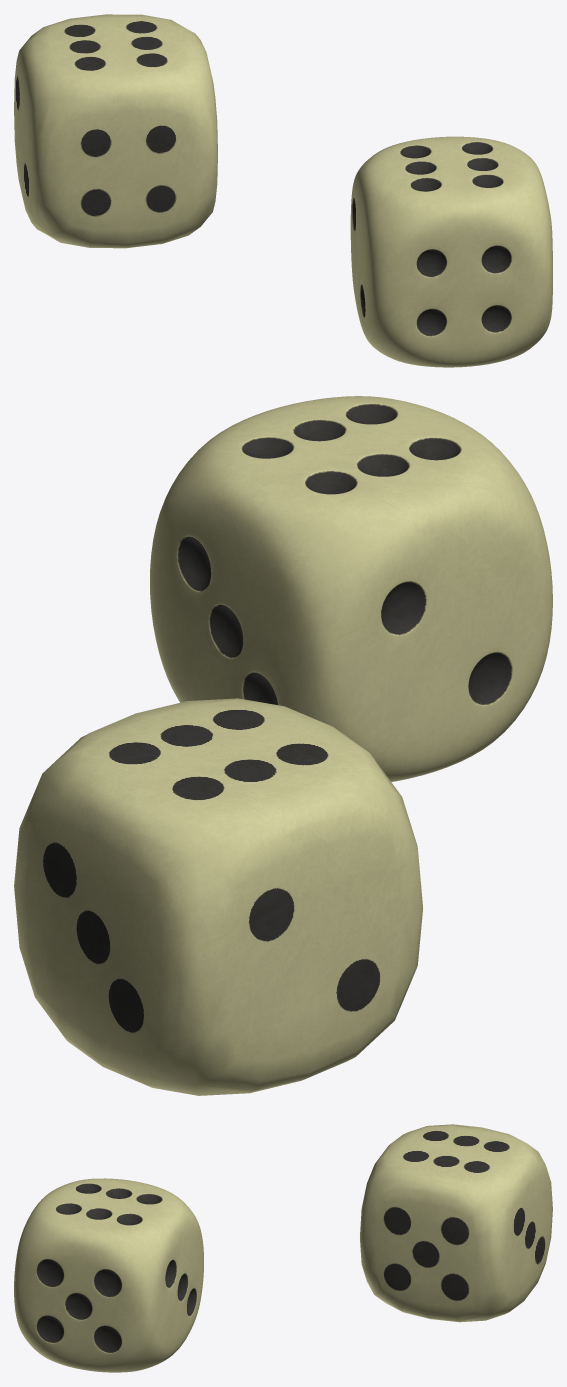
3 renders of one model, top to bottom at view 1: azimuth 30°, elevation 25°; view 2: azimuth 150°, elevation 25°; view 3: azimuth 270°, elevation 25°, orthographic. The views are drawn at different scales.
Visible parts, largest first — view 1: dice_lowpoly, dice_hipoly; view 2: dice_lowpoly, dice_hipoly; view 3: dice_lowpoly, dice_hipoly.
Part boxes in pixels (x1,y1,x2,y2): dice_lowpoly: (14,14,217,248); dice_hipoly: (350,136,552,367); dice_lowpoly: (14,698,423,1095); dice_hipoly: (150,396,552,781); dice_lowpoly: (360,1124,552,1322); dice_hipoly: (14,1178,203,1372).
Bounding box in the file's own units: 3 × 1.52 × 5.12.
2 materials, 2 textured.
